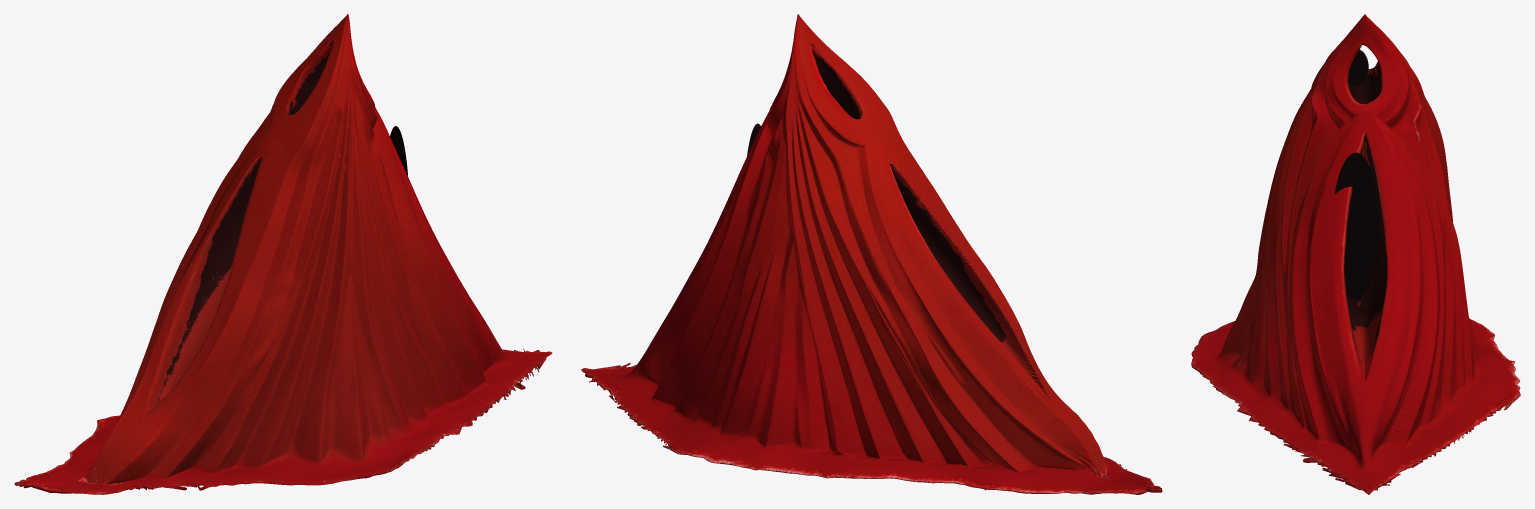
The model's file is oeuvre-03-source.glb.
3 renders of one model, left to right at view 1: azimuth 30°, elevation 25°; view 2: azimuth 150°, elevation 25°; view 3: azimuth 270°, elevation 25°, orthographic. The views are drawn at different scales.
Visible parts, largest first — view 1: sand-form study; view 2: sand-form study; view 3: sand-form study.
Boxes of the visible parts, x1=… form: sand-form study: x1=14, y1=14, x2=552, y2=494; sand-form study: x1=581, y1=14, x2=1162, y2=494; sand-form study: x1=1191, y1=14, x2=1520, y2=494.
Size of the model in its own units: 7.3 by 5.01 by 3.89.
Materials: 2 (1 with a texture image).
